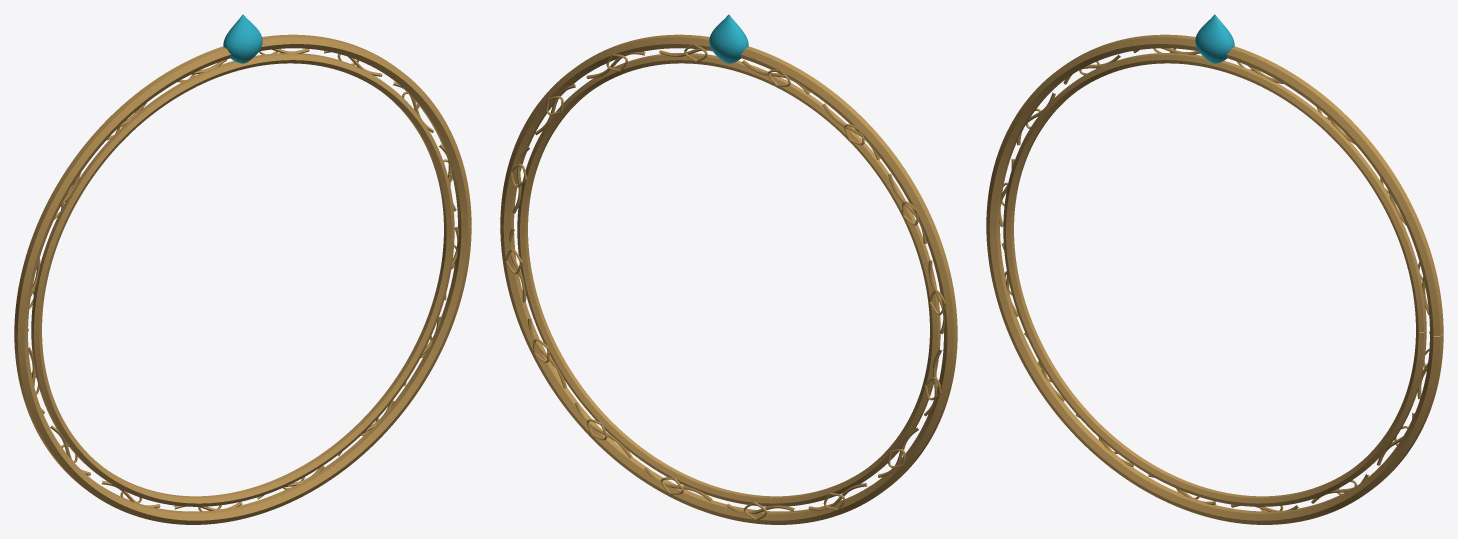
The model's file is water-deity-halo-v03.glb.
The picture shows the model from 3 angles, left to right: view 1: azimuth 30°, elevation 25°; view 2: azimuth 150°, elevation 25°; view 3: azimuth 330°, elevation 25°; orthographic projection.
Parts seen in each view (by area): view 1: Deity halo V03 gold 0, Deity halo V03 aquamarine 1; view 2: Deity halo V03 gold 0, Deity halo V03 aquamarine 1; view 3: Deity halo V03 gold 0, Deity halo V03 aquamarine 1.
Boxes of the visible parts, x1=… form: Deity halo V03 gold 0: x1=14, y1=34, x2=471, y2=524; Deity halo V03 aquamarine 1: x1=223, y1=14, x2=262, y2=63; Deity halo V03 gold 0: x1=500, y1=34, x2=957, y2=524; Deity halo V03 aquamarine 1: x1=709, y1=14, x2=748, y2=63; Deity halo V03 gold 0: x1=986, y1=34, x2=1443, y2=524; Deity halo V03 aquamarine 1: x1=1195, y1=14, x2=1234, y2=63.
Size of the model in its own units: 1.76 by 1.86 by 0.0991.
